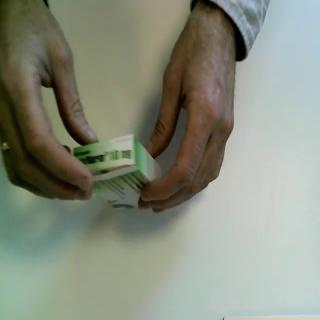oxynorm10mg: (71, 132, 164, 214)
